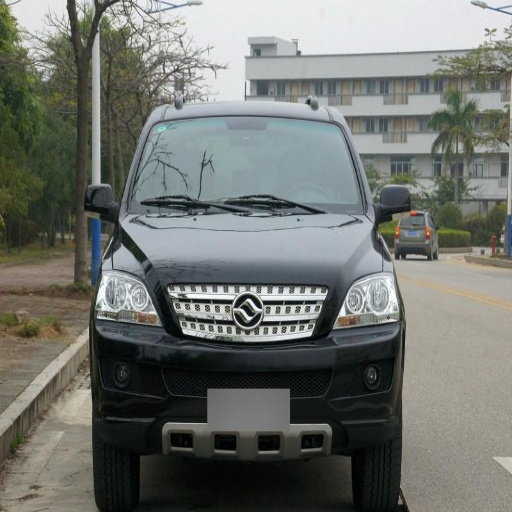back_right_light: (93, 286, 403, 460)
front_bumper: (129, 116, 365, 213)
front_left_door: (333, 271, 402, 331)
front_right_door: (96, 268, 162, 327)
front_right_light: (119, 208, 381, 286)
hood: (375, 184, 411, 221)
left_mirror: (86, 184, 118, 219)
trunk: (93, 426, 139, 511), (349, 436, 400, 511)
